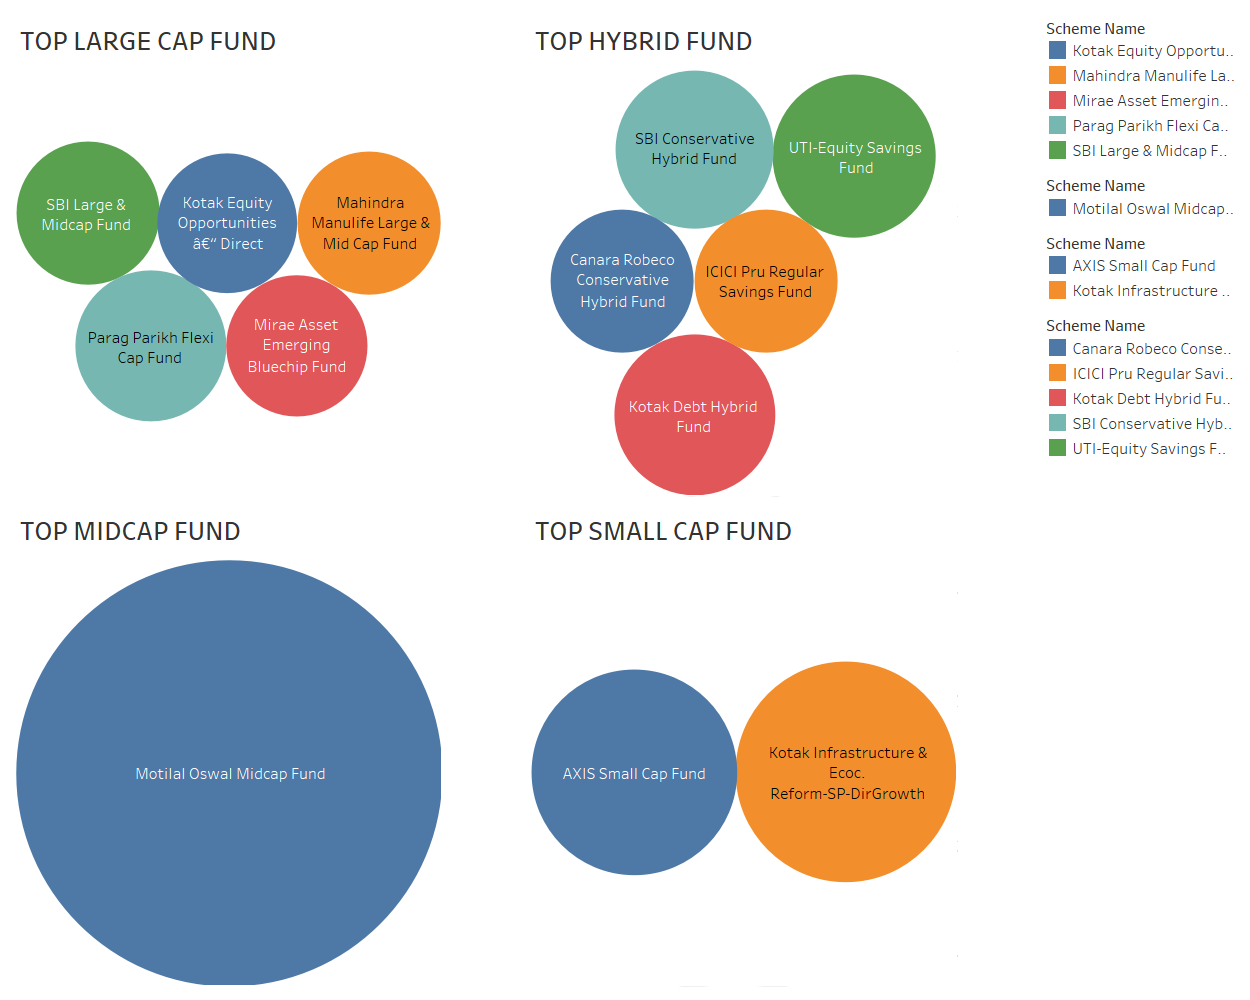

This screenshot's page, from the dashboard's own definition file:
{"tool":"tableau","page":{"name":"Dashboard 1","canvas":[1000,800],"ordinal":0},"visuals":[{"type":"worksheet","title":"Top_large_fund","mark":"Circle","box":[8,8,412,392]},{"type":"worksheet","title":"hybrid","mark":"Circle","box":[420,8,412,392]},{"type":"legend","title":"Top_large_fund","param":"[federated.1r4461n09y1ll215hcwnv0luqdnj].[none:scheme_name:nk]","box":[832,8,160,126]},{"type":"legend","title":"mid","param":"[federated.0nb2bye197wcsg13fm0e802b647f].[none:scheme_name:nk]","box":[832,134,160,46]},{"type":"legend","title":"small","param":"[federated.1vdce5t1fscojt17q6byb06bktid].[none:scheme_name:nk]","box":[832,180,160,66]},{"type":"legend","title":"hybrid","param":"[federated.0k9yzlb11uknb61dqtahf0s11q1v].[none:scheme_name:nk]","box":[832,246,160,126]},{"type":"worksheet","title":"mid","mark":"Circle","box":[8,400,412,392]},{"type":"worksheet","title":"small","mark":"Circle","box":[420,400,412,392]}]}

Visuals, with their boxes in screenshot pixels (x1, y1, x2, y2), scaled from the page's 1000x800 canvas onto the 1250x1000 screenshot:
"Top_large_fund" worksheet (Circle marks): box(10, 10, 525, 500)
"hybrid" worksheet (Circle marks): box(525, 10, 1040, 500)
"Top_large_fund" legend: box(1040, 10, 1240, 168)
"mid" legend: box(1040, 168, 1240, 225)
"small" legend: box(1040, 225, 1240, 308)
"hybrid" legend: box(1040, 308, 1240, 465)
"mid" worksheet (Circle marks): box(10, 500, 525, 990)
"small" worksheet (Circle marks): box(525, 500, 1040, 990)
